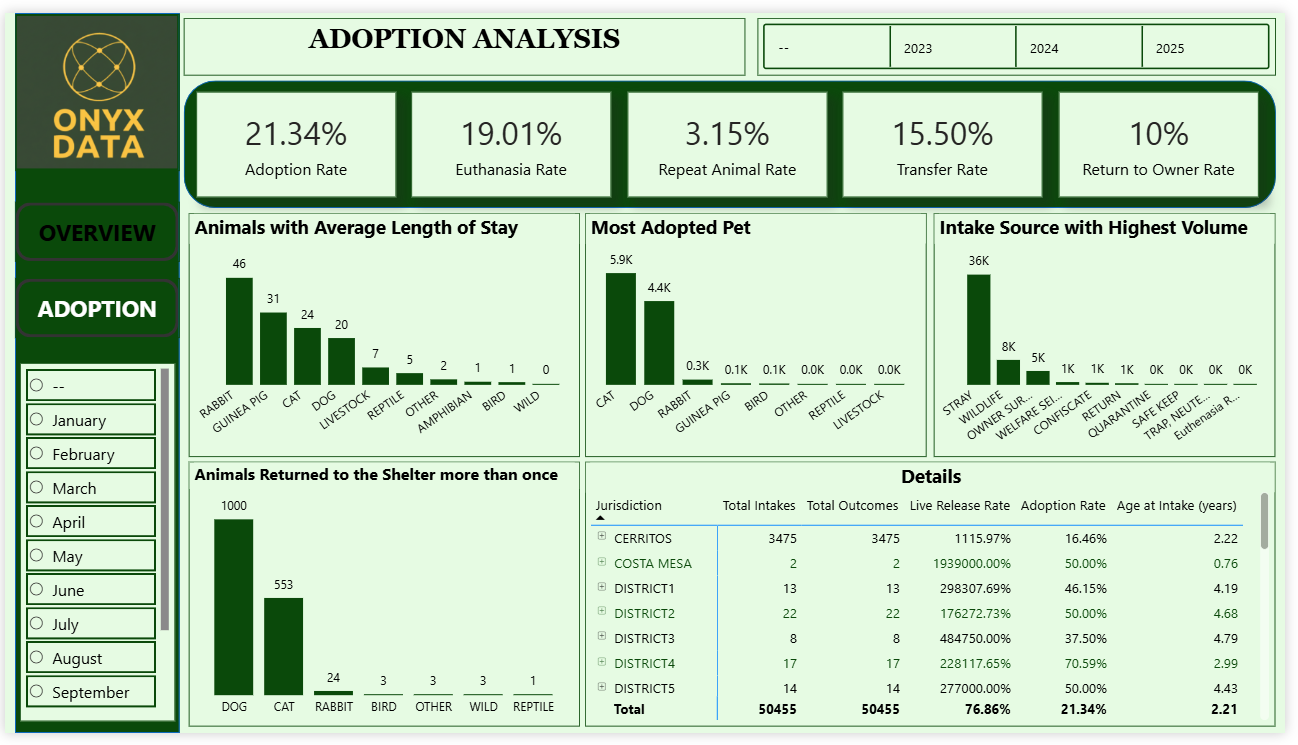

What the dashboard file says about the page in this screenshot:
{"tool":"powerbi","page":{"name":"Adoption Analysis","canvas":[1280,720],"ordinal":1},"visuals":[{"type":"shape","box":[9.6,0,164.7,720],"z":0},{"type":"shape","box":[178.4,67.2,1092.3,127.6],"z":1000},{"type":"card","fields":{"Values":["_Measure.Adoption Rate (%)"]},"box":[190.7,78.2,200.3,105.7],"z":2000},{"type":"card","fields":{"Values":["_Measure.Euthanasia Rate (%)"]},"box":[406.5,78.2,200.3,105.7],"z":3000},{"type":"card","fields":{"Values":["_Measure.% Repeat Animal"]},"box":[622.3,78.2,200.3,105.7],"z":4000},{"type":"card","fields":{"Values":["_Measure.Transfer Rate (%)"]},"box":[838.1,78.2,200.3,105.7],"z":5000},{"type":"card","fields":{"Values":["_Measure.Return to Owner Rate (%)"]},"box":[1053.9,78.2,200.3,105.7],"z":6000},{"type":"clusteredColumnChart","title":"Intake Source with Highest Volume","fields":{"Category":["Animals.Intake Type"],"Y":["_Measure.Total Intakes"]},"box":[929,200.3,341.7,244.3],"z":7000},{"type":"columnChart","title":"Most Adopted Pet","fields":{"Category":["Animals.Animal Type"],"Y":["_Measure.Adoption Count"]},"box":[580.4,200.3,341.7,244.3],"z":8000},{"type":"columnChart","title":"Animals with Average Length of Stay","fields":{"Category":["Animals.Animal Type"],"Y":["_Measure.Average LOS"]},"box":[183.9,200.3,391.1,244.3],"z":9000},{"type":"clusteredColumnChart","title":"Animals Returned to the Shelter more than once","fields":{"Y":["_Measure.Repeat Animals"],"Category":["Animals.Animal Type"]},"box":[183.9,448.7,391.1,264.8],"z":10000},{"type":"pivotTable","title":"Details","fields":{"Rows":["Animals.Jurisdiction","Animals.latitude","Animals.longitude"],"Values":["_Measure.Total Intakes","_Measure.Total Outcomes","_Measure.Live Release Rate","_Measure.Adoption Rate","_Measure.Age at Intake (years)"]},"box":[580.4,448.7,690.2,264.8],"z":11000},{"type":"textbox","box":[178.4,5.5,561.2,57.6],"z":12000},{"type":"image","box":[9.6,1.4,164.7,156.4],"z":13000},{"type":"actionButton","box":[9.6,189.4,164.7,60.4],"z":14000},{"type":"actionButton","box":[9.6,264.8,164.7,60.4],"z":15000},{"type":"advancedSlicerVisual","fields":{"Values":["Calendar Table.Year"]},"box":[752,5.5,518.7,57.6],"z":15001},{"type":"listSlicer","fields":{"Values":["Calendar Table.Month Name"]},"box":[15.1,349.9,155.1,358.1],"z":15002}]}

Visuals, with their boxes in screenshot pixels (x1, y1, x2, y2), scaled from the page's 1280x720 canvas onto the 1298x745 screenshot:
shape: 10,0,177,744
shape: 181,70,1289,202
card - _Measure.Adoption Rate (%): 193,81,396,190
card - _Measure.Euthanasia Rate (%): 412,81,615,190
card - _Measure.% Repeat Animal: 631,81,834,190
card - _Measure.Transfer Rate (%): 850,81,1053,190
card - _Measure.Return to Owner Rate (%): 1069,81,1272,190
"Intake Source with Highest Volume" clusteredColumnChart: 942,207,1289,460
"Most Adopted Pet" columnChart: 589,207,935,460
"Animals with Average Length of Stay" columnChart: 186,207,583,460
"Animals Returned to the Shelter more than once" clusteredColumnChart: 186,464,583,738
"Details" pivotTable: 589,464,1288,738
textbox: 181,6,750,65
image: 10,1,177,163
actionButton: 10,196,177,258
actionButton: 10,274,177,336
advancedSlicerVisual - Calendar Table.Year: 763,6,1289,65
listSlicer - Calendar Table.Month Name: 15,362,173,733
